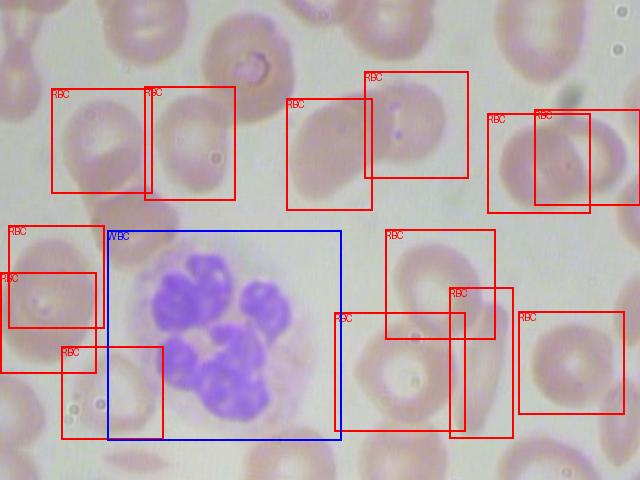RBC: (334, 312, 465, 431), (385, 229, 495, 339), (364, 71, 468, 178), (518, 311, 624, 414), (51, 88, 152, 193), (144, 86, 235, 200), (487, 113, 590, 213), (534, 109, 640, 205), (8, 225, 104, 328), (0, 272, 96, 373), (449, 287, 513, 438), (286, 98, 372, 210), (61, 346, 163, 439)
WBC: (107, 230, 341, 440)
